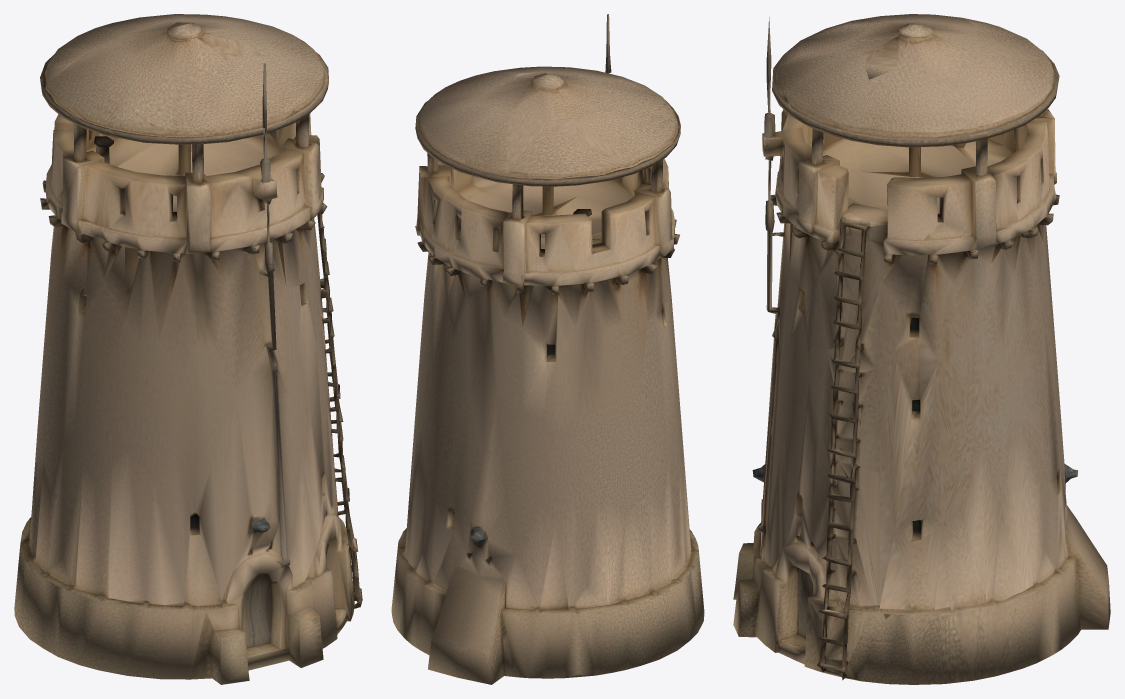
Rendered from adobe_tower.glb.
3 views of the same model, side by side, from view 1: azimuth 30°, elevation 25°; view 2: azimuth 150°, elevation 25°; view 3: azimuth 270°, elevation 25° (orthographic). The views are drawn at different scales.
Bounding box in the file's own units: 0.5195 × 0.9999 × 0.5701.
1 material, 1 textured.
